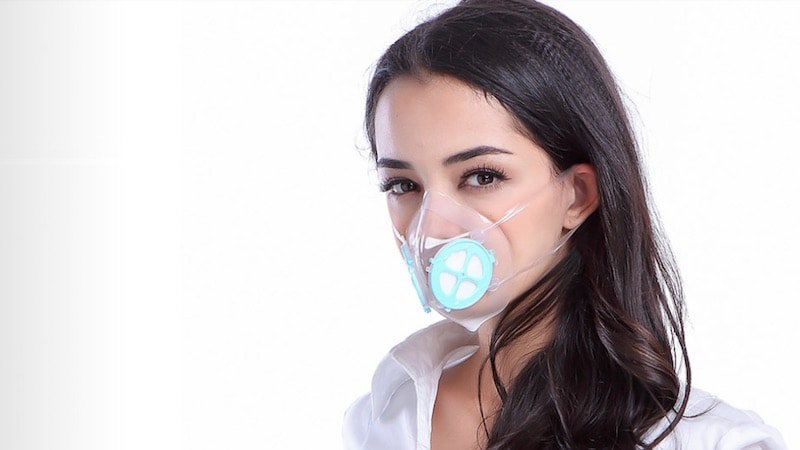mask: (349, 2, 612, 336)
